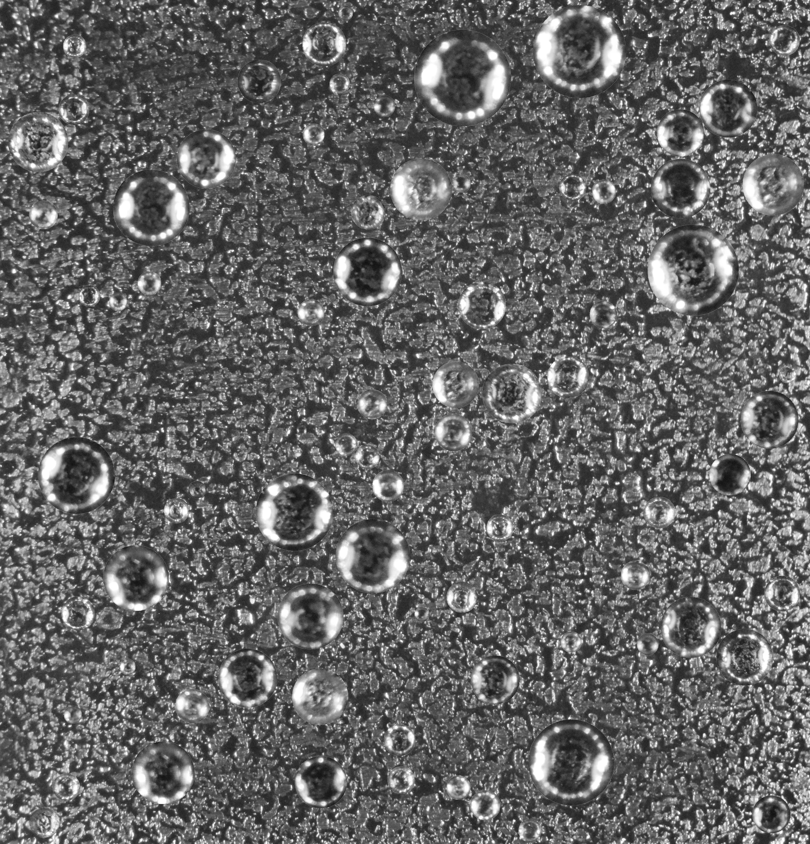Bubble: (414, 29, 510, 126), (533, 5, 626, 97), (647, 224, 738, 315), (528, 719, 614, 805), (255, 473, 333, 550), (113, 169, 189, 245), (38, 437, 114, 513), (335, 519, 409, 593), (333, 237, 401, 306), (277, 583, 343, 649), (103, 545, 168, 610), (131, 741, 194, 804), (390, 158, 451, 220), (742, 154, 804, 215), (660, 597, 721, 657), (8, 112, 68, 171), (482, 363, 541, 423), (651, 158, 710, 218), (218, 648, 277, 707), (176, 129, 235, 188), (699, 79, 757, 137), (740, 390, 798, 448), (716, 629, 773, 685), (292, 668, 348, 724), (294, 756, 346, 808), (470, 655, 519, 704), (458, 281, 505, 329), (657, 109, 704, 156), (432, 361, 478, 407), (302, 22, 346, 66), (237, 59, 280, 102), (547, 356, 589, 398), (709, 454, 750, 495), (752, 795, 790, 833), (434, 413, 472, 451), (764, 575, 800, 611), (351, 195, 385, 229), (175, 689, 209, 723), (61, 596, 94, 630), (383, 724, 415, 756), (643, 496, 675, 528), (446, 581, 477, 612), (372, 470, 403, 501), (58, 94, 89, 124), (769, 25, 799, 55), (357, 389, 387, 419), (29, 807, 59, 837), (470, 790, 500, 820), (621, 560, 650, 589), (29, 200, 57, 229), (589, 300, 617, 328), (387, 766, 414, 793), (559, 173, 586, 200), (486, 514, 513, 541), (52, 773, 79, 800), (297, 299, 324, 325), (163, 498, 188, 523), (446, 775, 470, 799), (355, 444, 379, 468), (137, 271, 161, 294), (592, 179, 615, 203), (518, 819, 541, 842), (63, 34, 86, 57), (335, 433, 357, 455), (302, 123, 324, 145), (373, 95, 395, 116), (637, 633, 658, 655), (560, 631, 581, 652), (78, 285, 99, 306), (329, 73, 349, 93), (109, 292, 127, 310), (452, 174, 470, 192), (63, 705, 81, 723), (188, 481, 205, 498), (779, 366, 796, 383), (119, 658, 135, 674), (414, 607, 429, 621), (338, 5, 352, 20), (622, 363, 634, 375), (296, 425, 306, 435)
